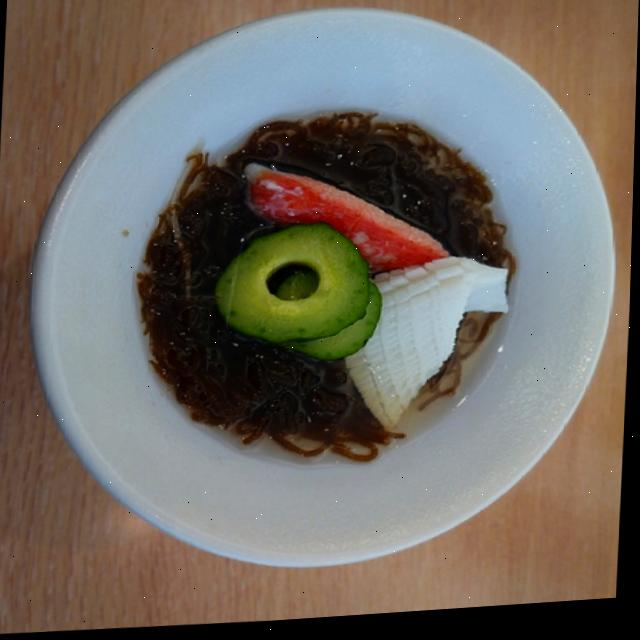蔬菜料理: (24, 0, 604, 491)
